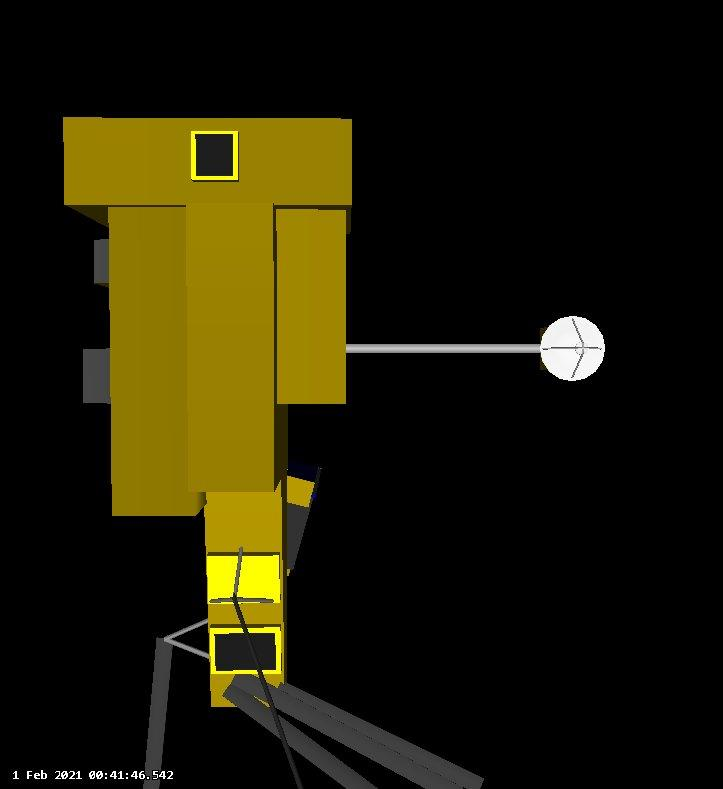antenna: (539, 313, 608, 384)
body: (59, 113, 356, 711)
